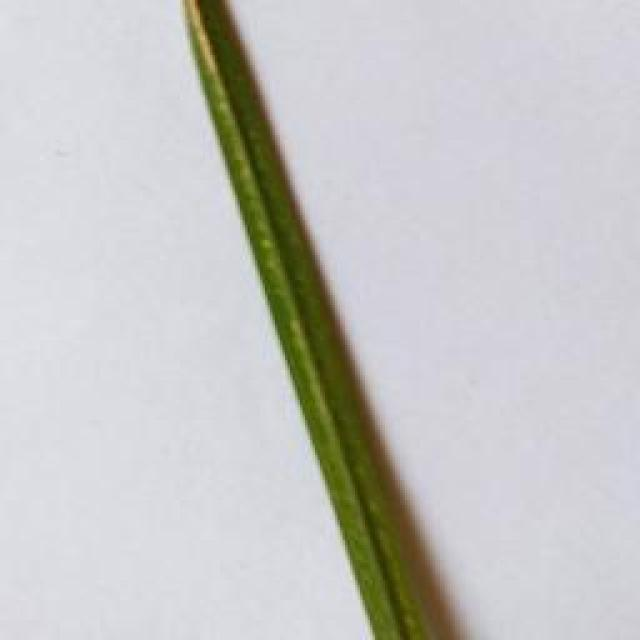Bacterial_Blight: (180, 0, 235, 115)
